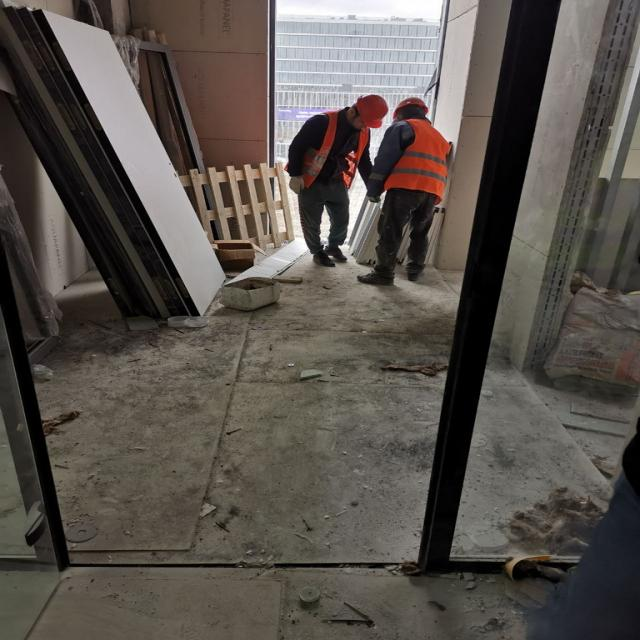Helmet: (344, 95, 390, 133), (393, 98, 431, 122)
